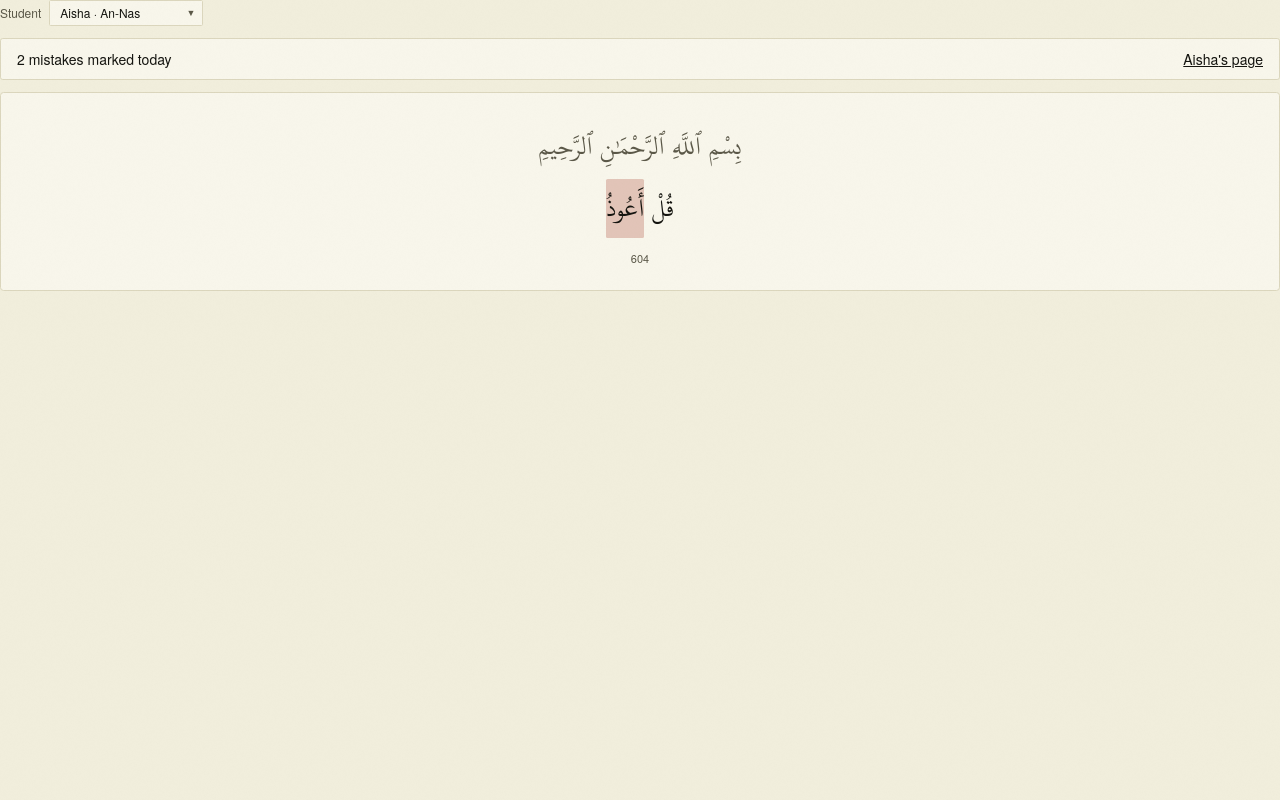
Test: HearDesk › a word marked twice today counts both, and Remove takes back only the one chosen
Check: the text "2 mistakes marked today" is shown, box top-left (17, 49), bottom-right (172, 69)
Click the button "أَعُوذُ". click: {"x": 625, "y": 209}
box: top-left (606, 180), bottom-right (644, 238)
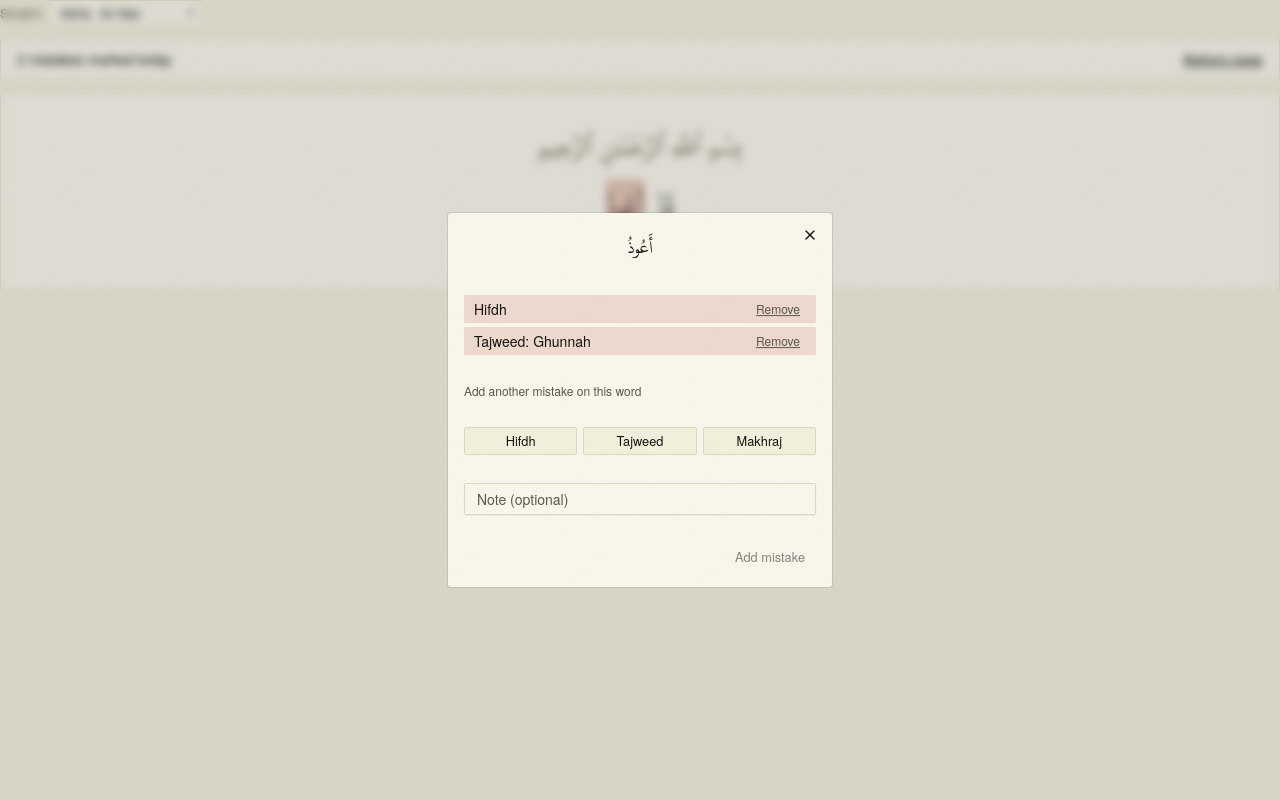
Click the button with aria-label "Remove Tajweed: Ghunnah". click: {"x": 778, "y": 341}
box: top-left (750, 333), bottom-right (806, 349)
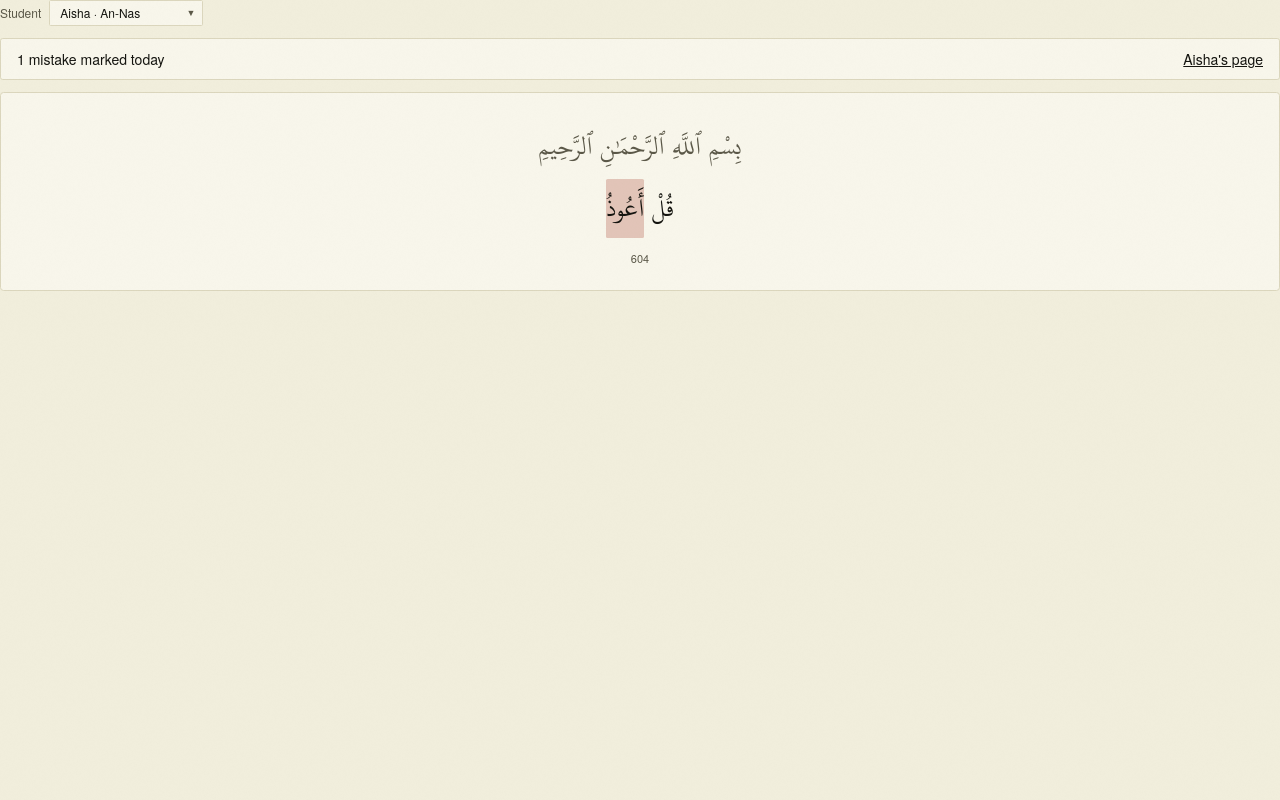
Check: the text "1 mistake marked today" is shown, box top-left (17, 49), bottom-right (165, 69)
